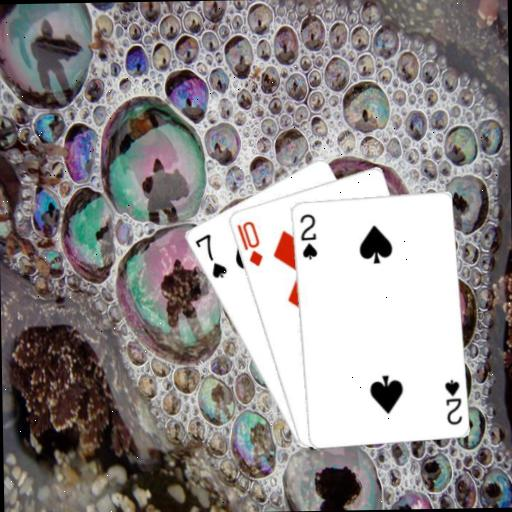10D: (234, 217, 265, 268)
2S: (296, 210, 319, 261), (442, 376, 464, 427)
7S: (191, 230, 229, 280)
